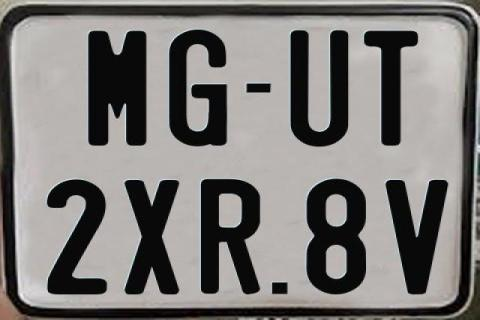0: (305, 177, 368, 295), (44, 179, 105, 295)
G: (168, 30, 227, 148)
M: (88, 29, 148, 148)
R: (200, 178, 260, 296)
T: (362, 28, 420, 146)
U: (288, 28, 349, 146)
V: (385, 180, 450, 298)
X: (124, 180, 180, 294)
